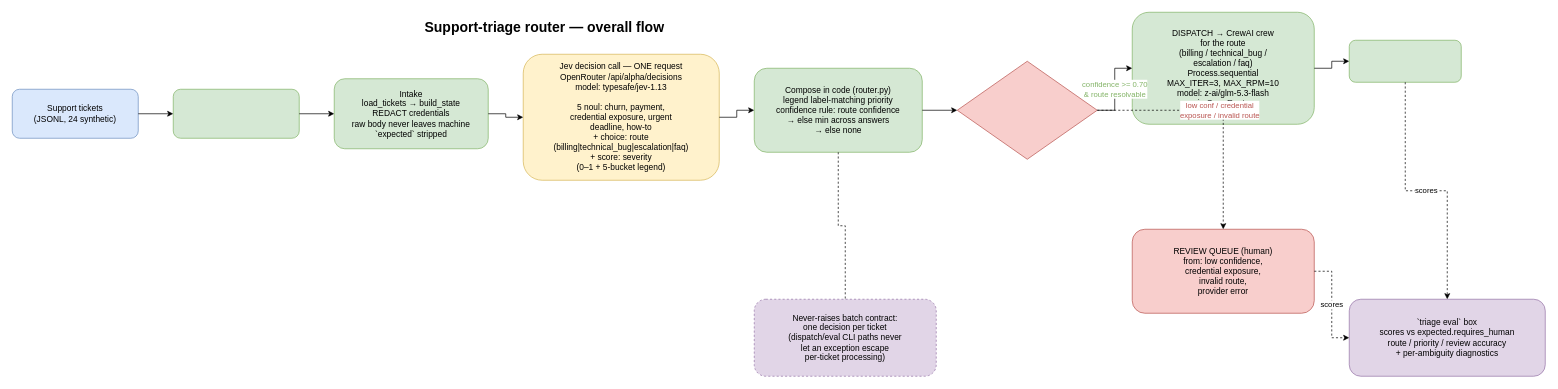
This 1558x389 diagram has some shape labels left out. Here are the shapes that lost their labels. From the top down, the centre of each, then its label:
At pixel 1405 61: "Crew output".
At pixel 236 113: "`triage run` (CLI, argparse)".
At pixel 1027 110: "Confidence gate (0.70) + credential-exposure forces review".
